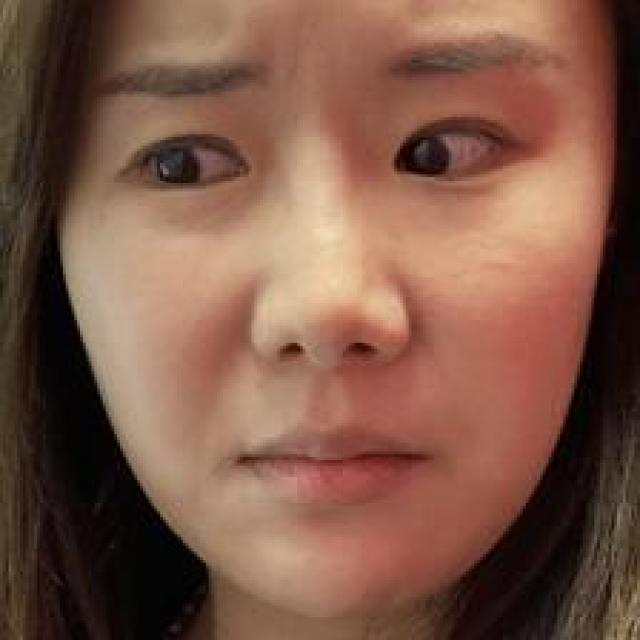Fear: (76, 32, 580, 570)
